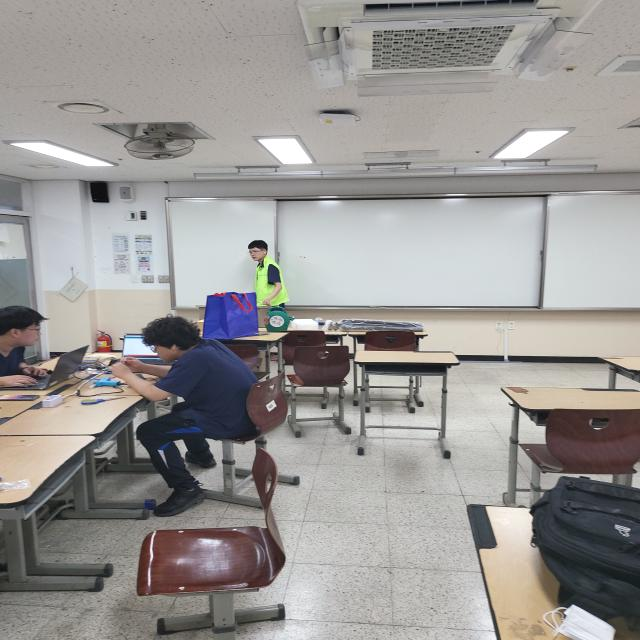weston_spy: (246, 252, 298, 310)
